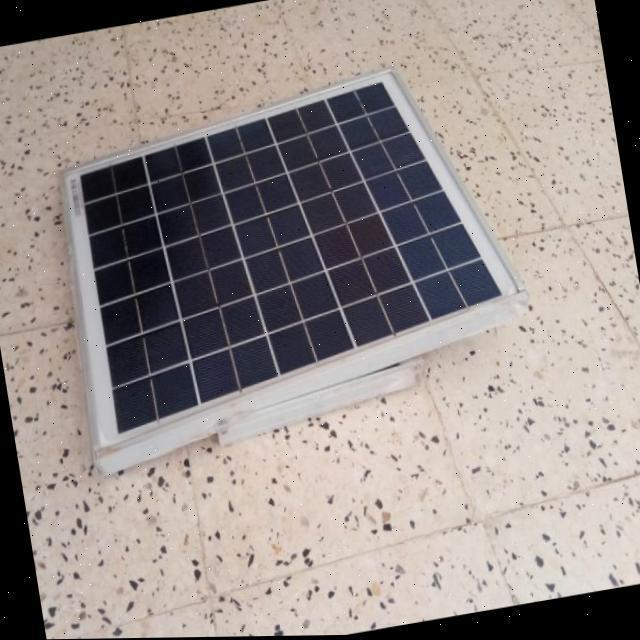Normal Solar Panel: (41, 53, 546, 457)
